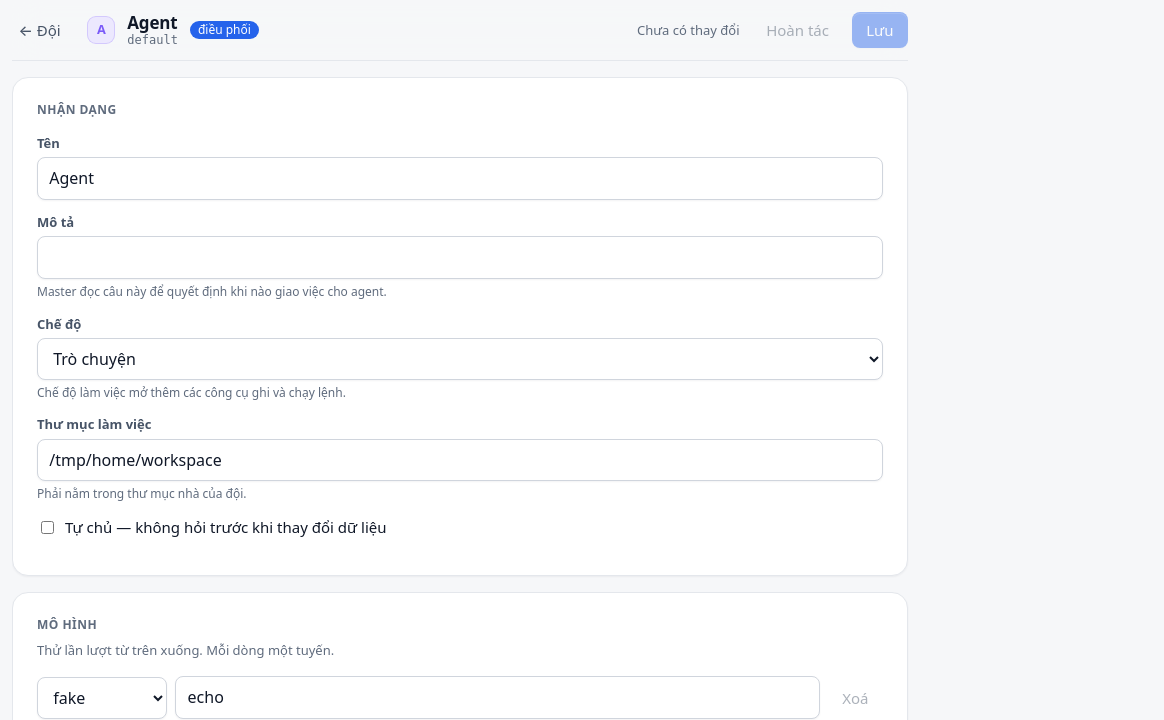
Test case: the escalation route of an agent that names one › is checked again when a route above is changed onto it
Select "openrouter" in the dropdown named "Nhà cung cấp" at (102, 698), box 37,677 -> 167,719
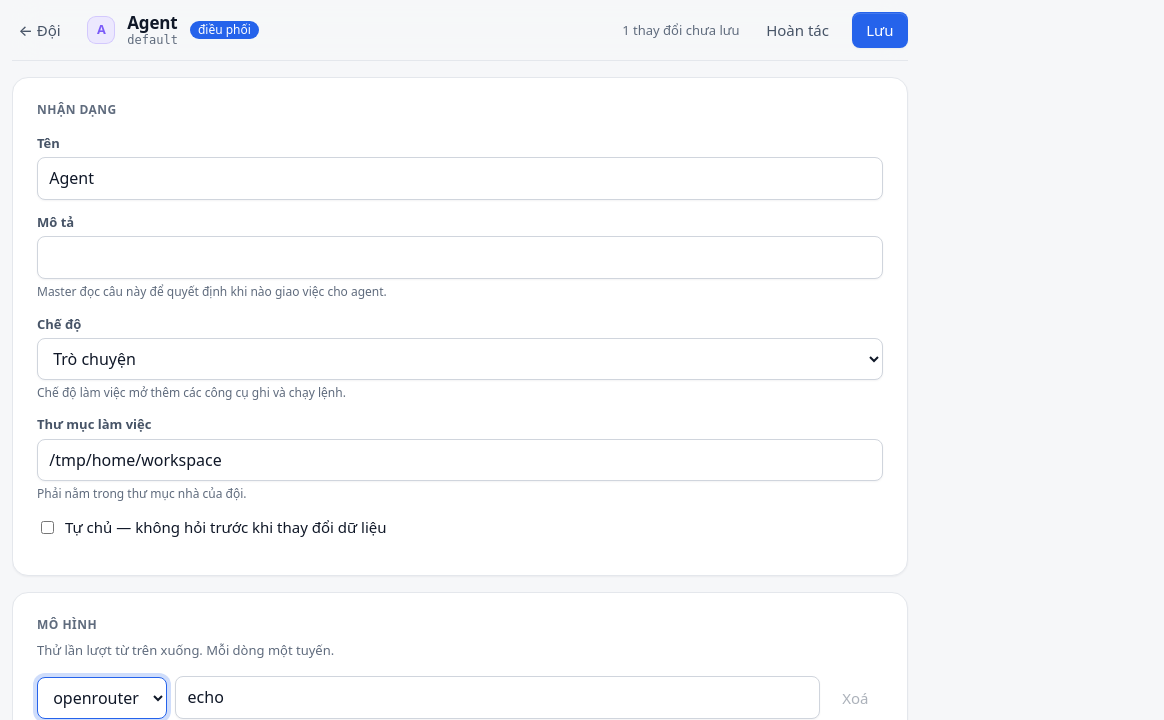
Replace the text in the field named "Mô hình" with "big" at (498, 698), box 175,676 -> 820,719
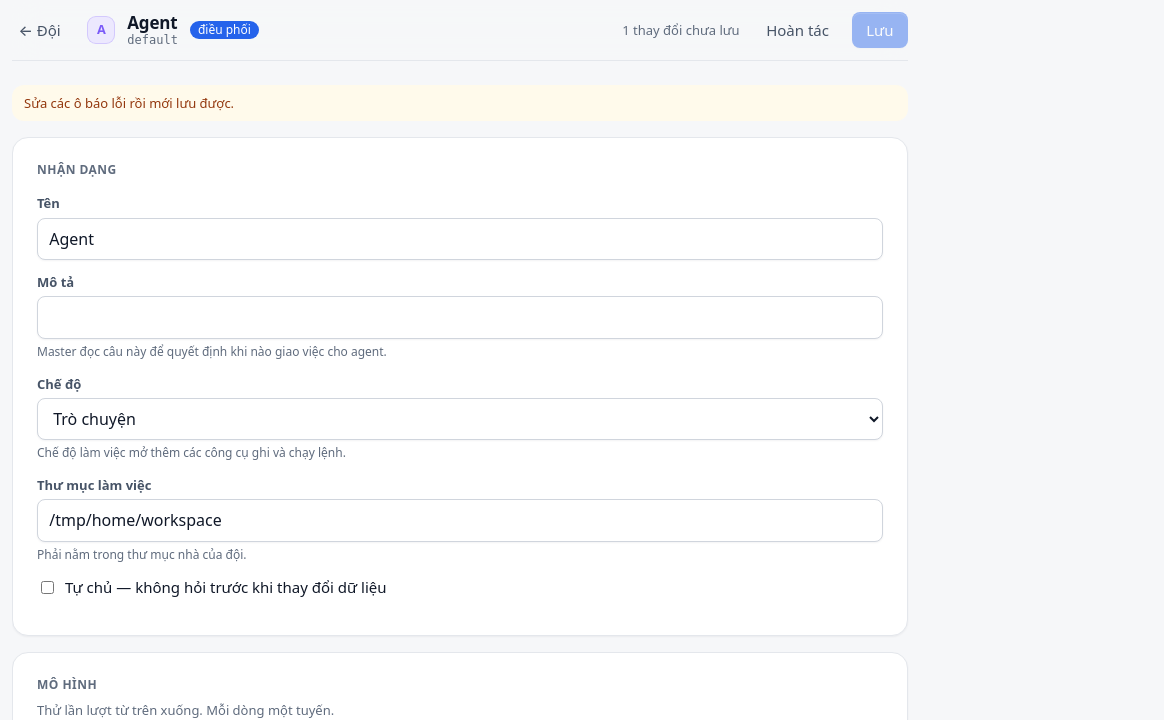
Expected: the button "Lưu" is disabled, 852,12 -> 908,48
